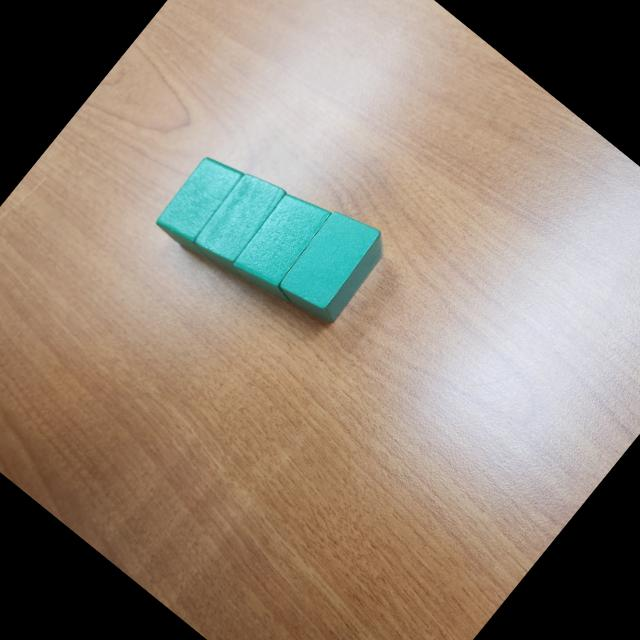green: (270, 200, 397, 332), (225, 182, 348, 312), (150, 146, 264, 264), (187, 163, 300, 282)
